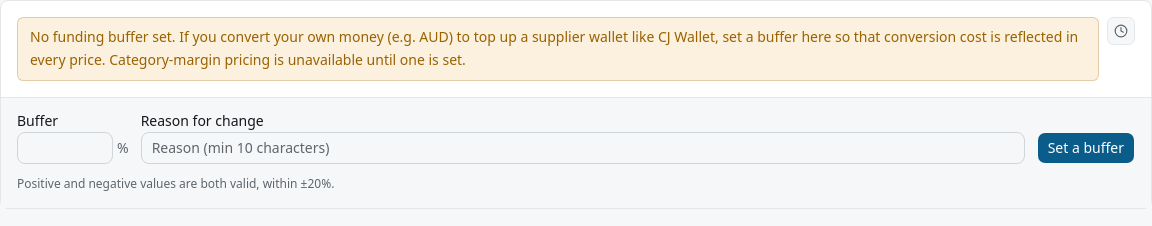
FundingBufferCard — the save has to look like it happened › shows the new rate straight away, without waiting for a server render
The width and height of the screenshot is (1152, 226).
Type "2.5" into the number field named "Funding buffer percentage" at {"x": 65, "y": 148}, box [17,132,113,164]
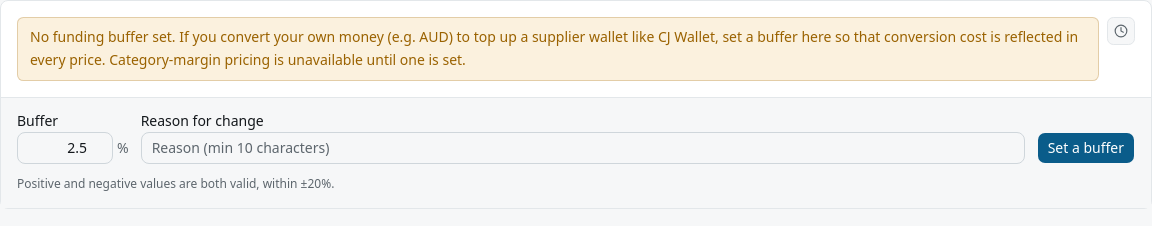
Type "AUD to USD conversion on CJ Wallet top-ups." into the field labelled "Reason for change" at {"x": 583, "y": 148}, box [141,132,1025,164]
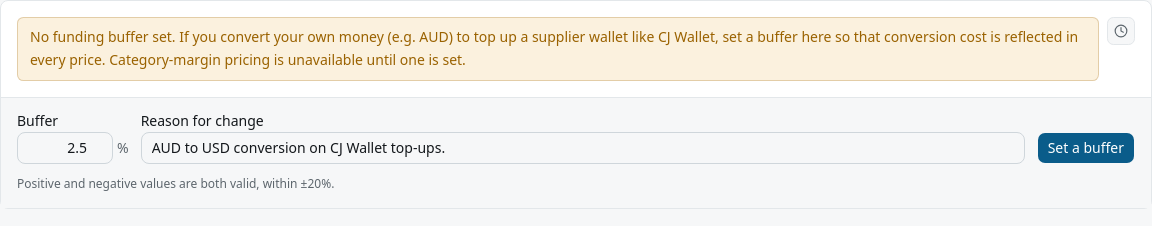
Click the button "Set a buffer" at {"x": 1086, "y": 148}, box [1037,132,1135,164]
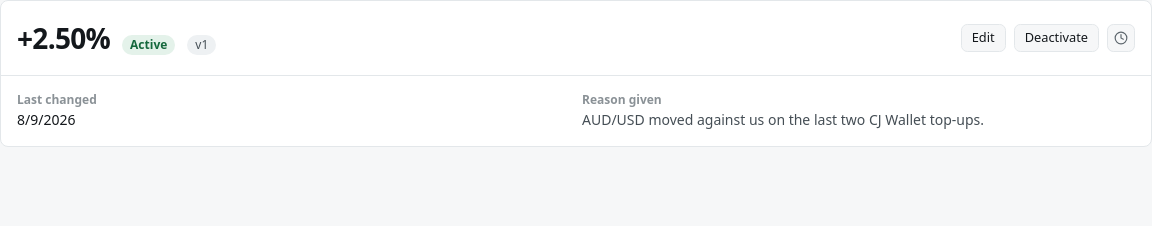
expect the text "+2.50%" is shown: met, box [17,17,110,59]
